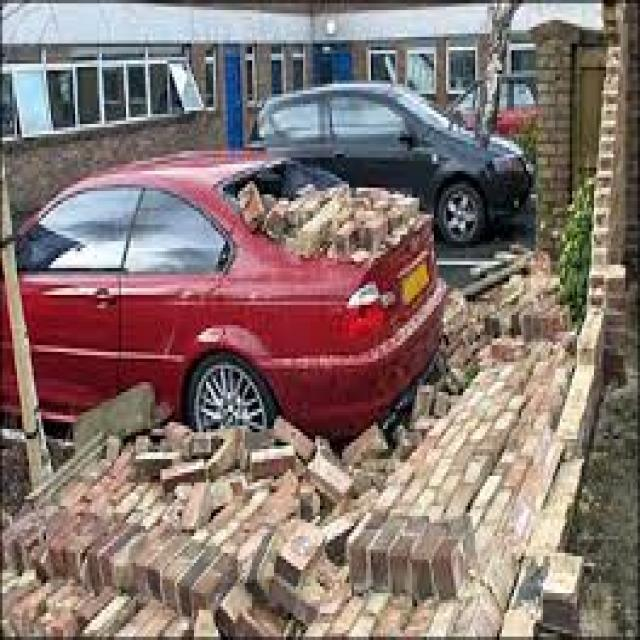moderate: (64, 152, 440, 394)
